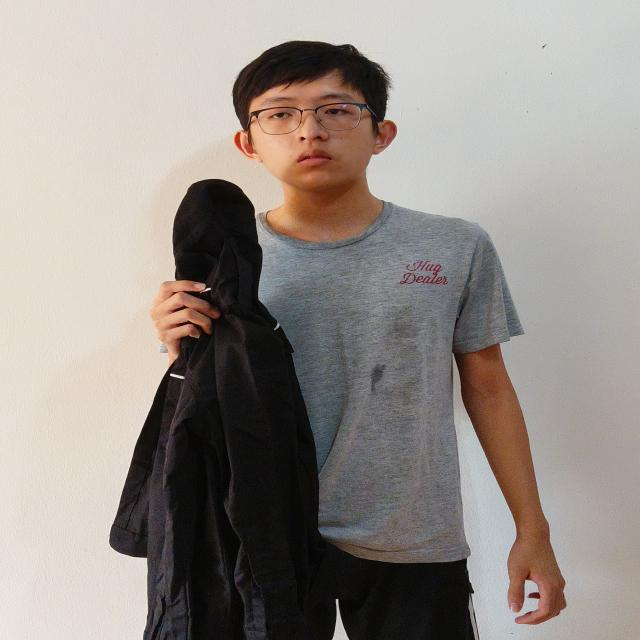person_without_labcoat: (111, 41, 565, 640)
